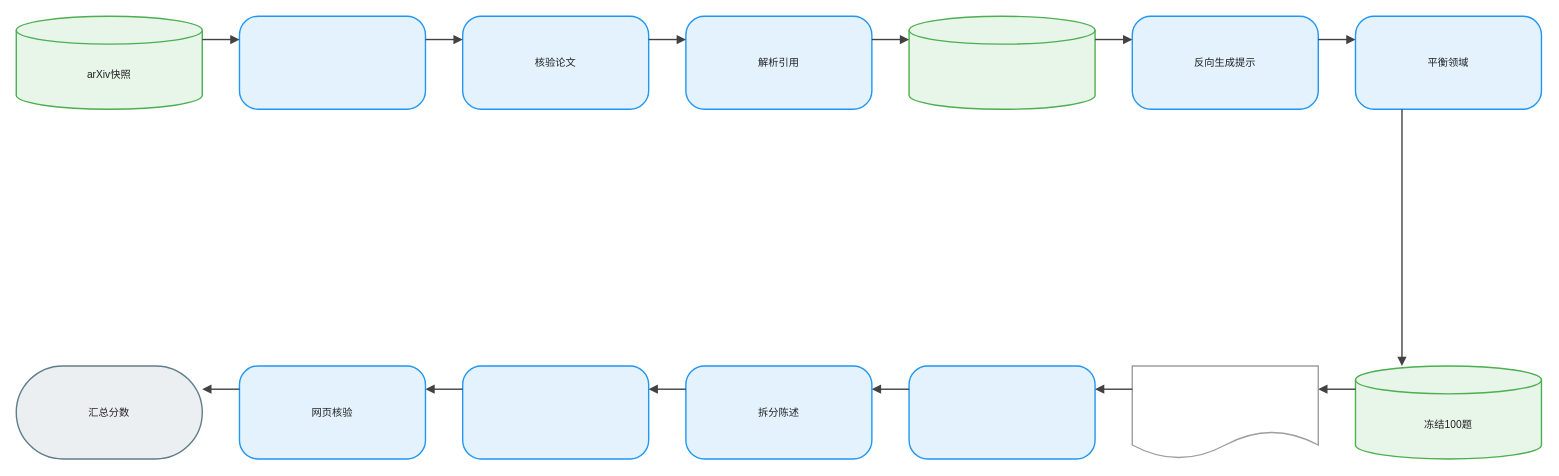
Some shapes in this 1559 by 476 pixel diagram are drawn without their labels. The shapes that lost their labels are listed below. From the top down, each one's centre as x and y in pixels, then its label:
the point at 332,62: 筛选综述
the point at 1001,62: 保留678篇
the point at 555,412: 核验带引陈述
the point at 1001,412: 比较参考文献
the point at 1225,412: 生成研究报告
